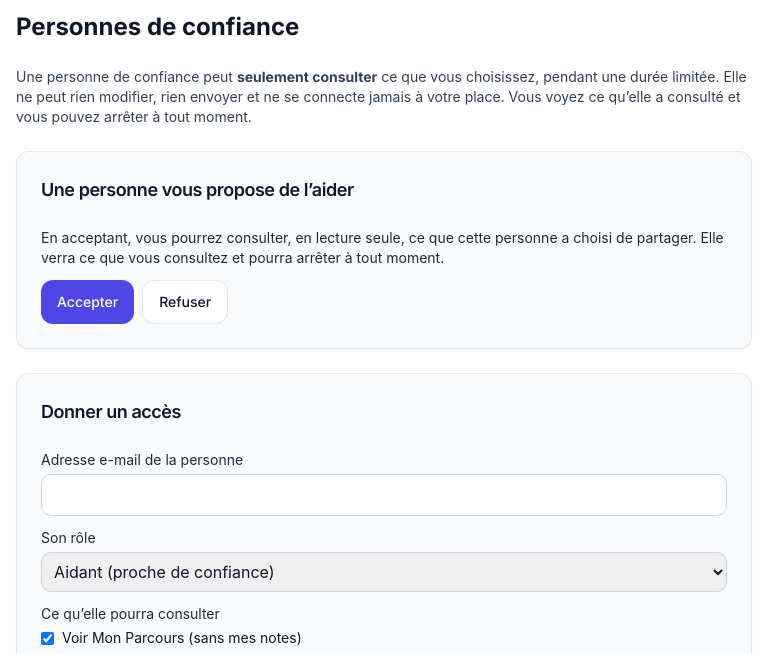
Test: Personnes de confiance › an invitation link offers accept / refuse; a pending legal mandate is reported as opening nothing
Click the button with test id "delegation-accept". click: (88, 302)
box: [41,280,134,324]
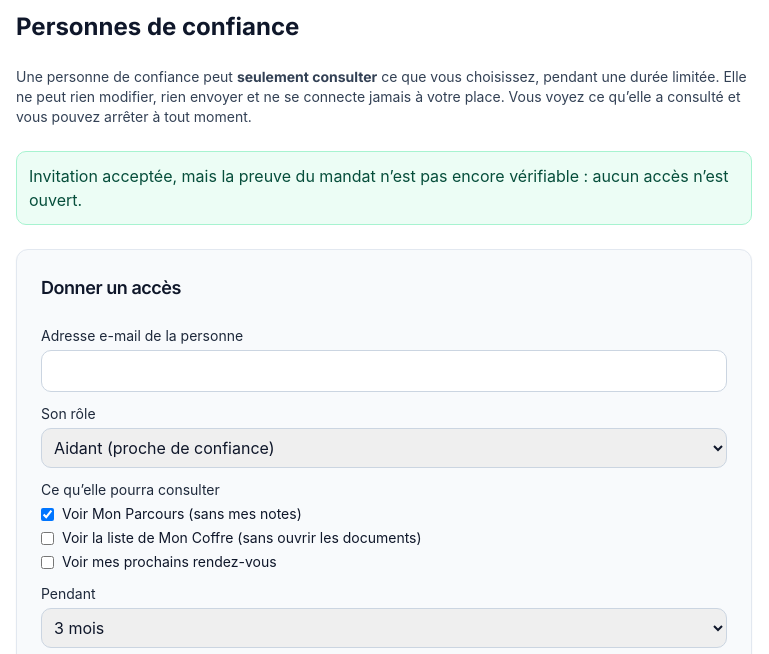
Expected: the message with test id "delegation-status" shows "aucun accès n’est ouvert", [29,166,728,210]
